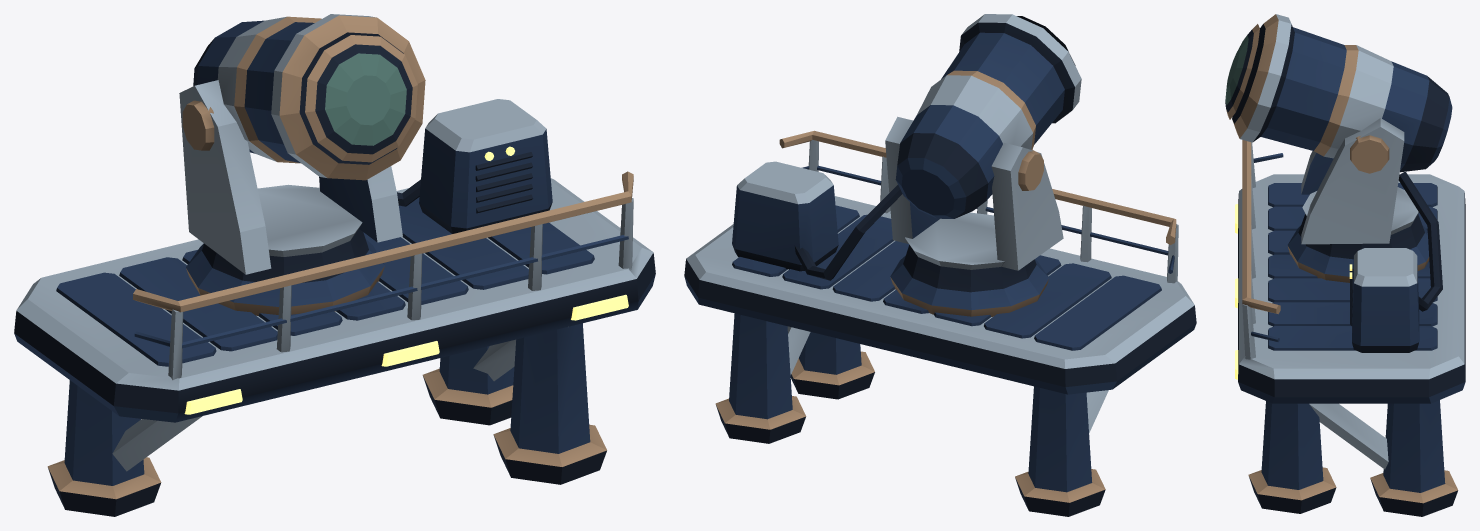
File: grotto-survey.glb
3 renders of one model, left to right at view 1: azimuth 30°, elevation 25°; view 2: azimuth 150°, elevation 25°; view 3: azimuth 270°, elevation 25°, orthographic. The views are drawn at different scales.
Parts seen in each view (by area): view 1: grotto-survey; view 2: grotto-survey; view 3: grotto-survey.
Part boxes in pixels (x1,y1,x2,y2): grotto-survey: (14, 14, 655, 516); grotto-survey: (684, 14, 1196, 516); grotto-survey: (1225, 14, 1465, 516).
Bounding box in the file's own units: 4.9 × 4.39 × 2.43.
